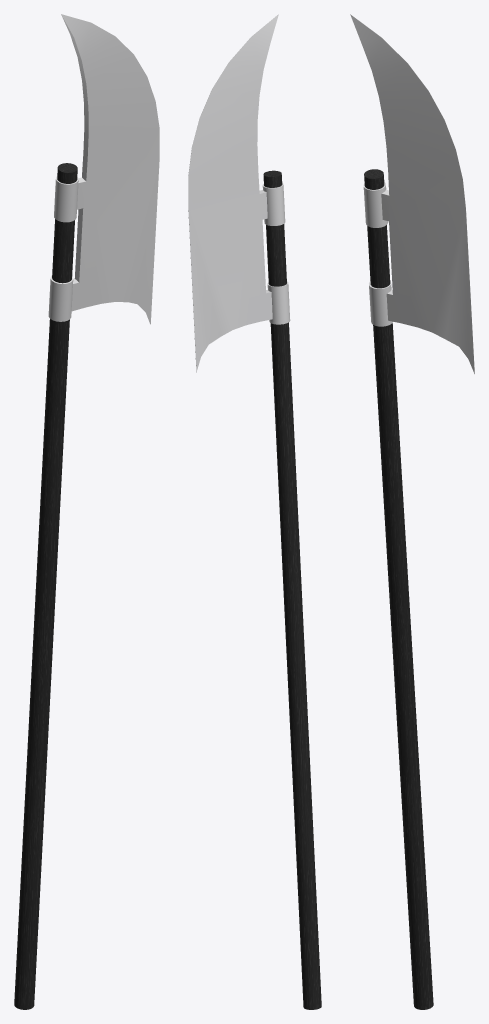
Rendered from axeLarge.fbx.
3 renders of one model, left to right at view 1: azimuth 30°, elevation 25°; view 2: azimuth 210°, elevation 25°; view 3: azimuth 330°, elevation 25°, orthographic. The views are drawn at different scales.
Visible parts, largest first — view 1: spear shaft 003; view 2: spear shaft 003; view 3: spear shaft 003.
Part boxes in pixels (x1,y1,x2,y2): spear shaft 003: [14, 14, 159, 1009]; spear shaft 003: [188, 14, 321, 1009]; spear shaft 003: [350, 14, 474, 1009].
Size of the model in its own units: 14.01 by 13.81 by 129.
Materials: 2 (1 with a texture image).
